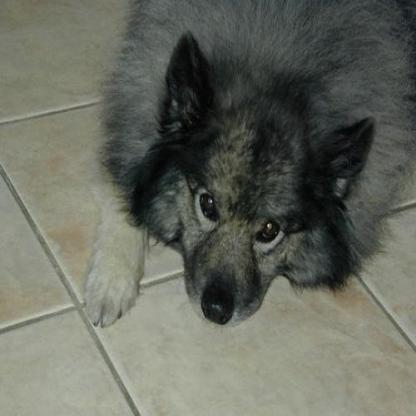keeshond: (82, 0, 414, 326)
